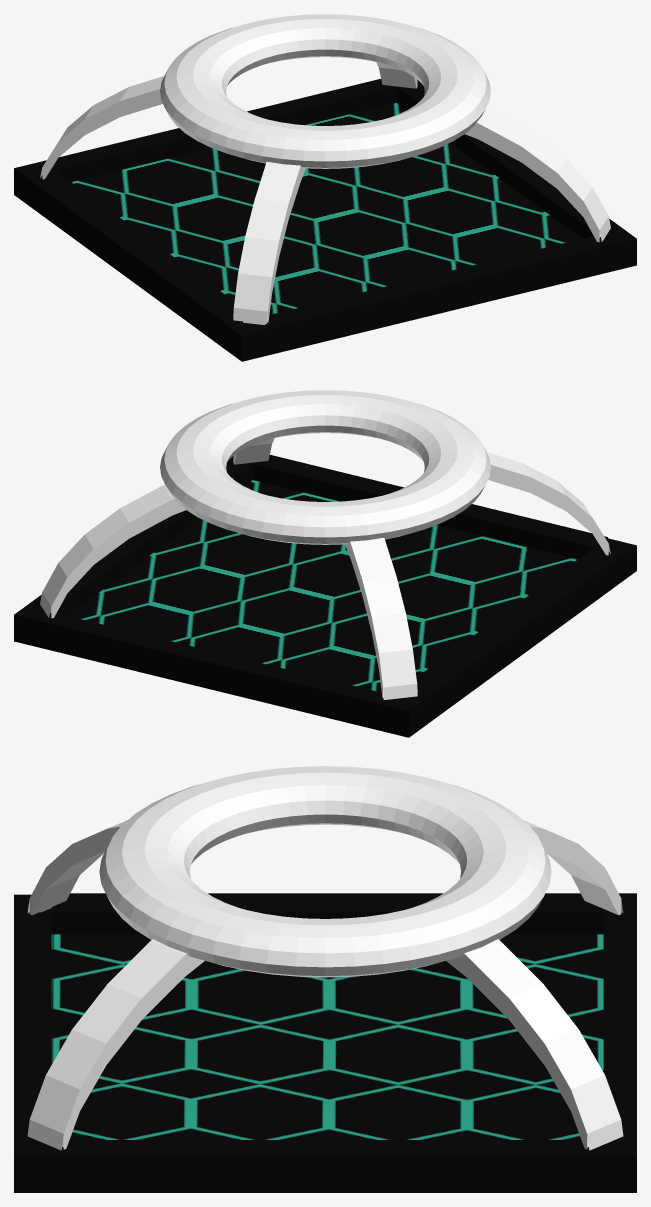
Rendered from map1.glb.
3 renders of one model, top to bottom at view 1: azimuth 30°, elevation 25°; view 2: azimuth 150°, elevation 25°; view 3: azimuth 270°, elevation 25°, orthographic. The views are drawn at different scales.
Parts seen in each view (by area): view 1: Cube, Torus, Arco2, Arco1; view 2: Cube, Torus, Arco1, Arco2; view 3: Cube, Torus, Arco1, Arco2.
Boxes of the visible parts, <box> form: Cube: <box>14,79,636,361</box>; Torus: <box>160,14,490,168</box>; Arco2: <box>40,76,610,242</box>; Arco1: <box>233,62,417,324</box>; Cube: <box>14,455,636,737</box>; Torus: <box>160,390,490,544</box>; Arco1: <box>40,452,610,618</box>; Arco2: <box>233,438,417,699</box>; Cube: <box>14,893,636,1192</box>; Torus: <box>99,766,551,977</box>; Arco1: <box>27,820,623,1150</box>; Arco2: <box>27,820,623,1150</box>.
Bounding box in the file's own units: 31 × 11.65 × 31.
4 materials, 1 textured.
